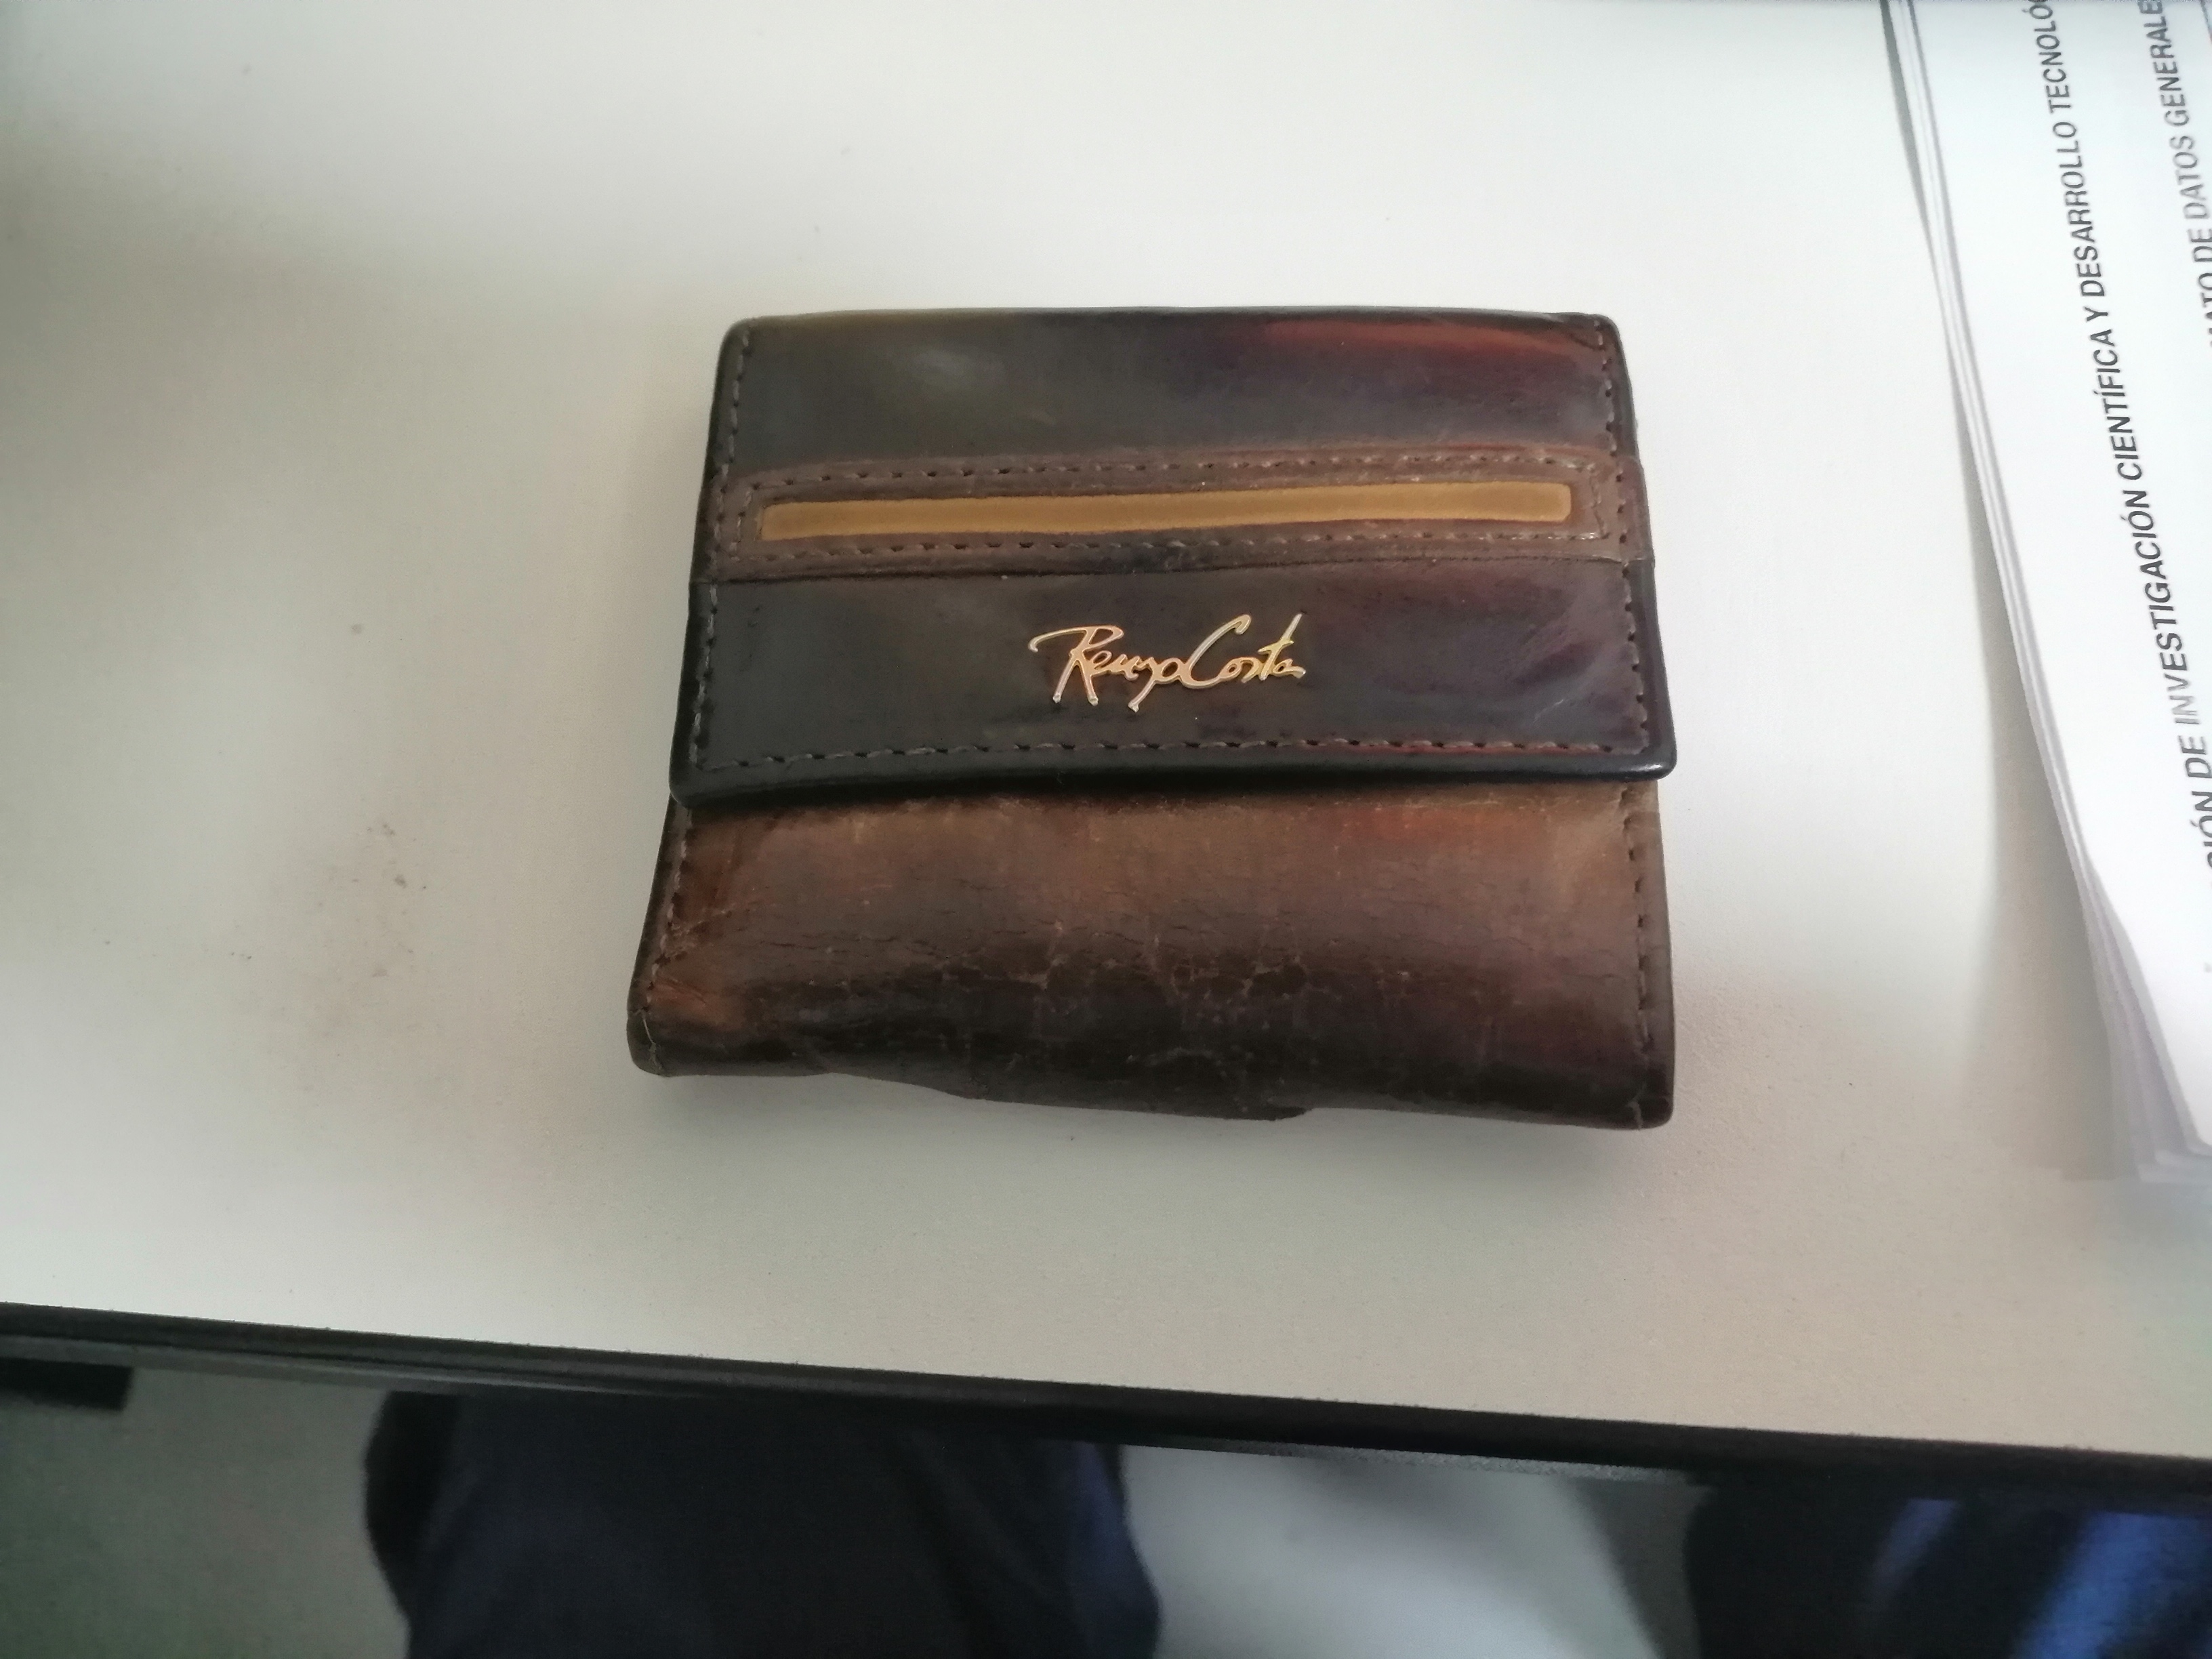monedero: (604, 286, 1723, 1148)
